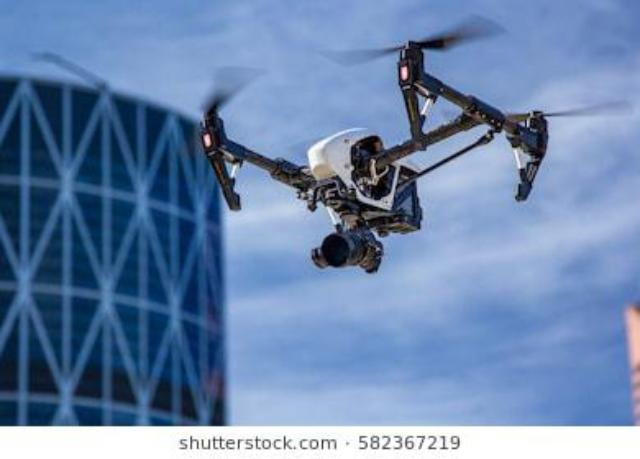drone: (162, 0, 640, 272)
